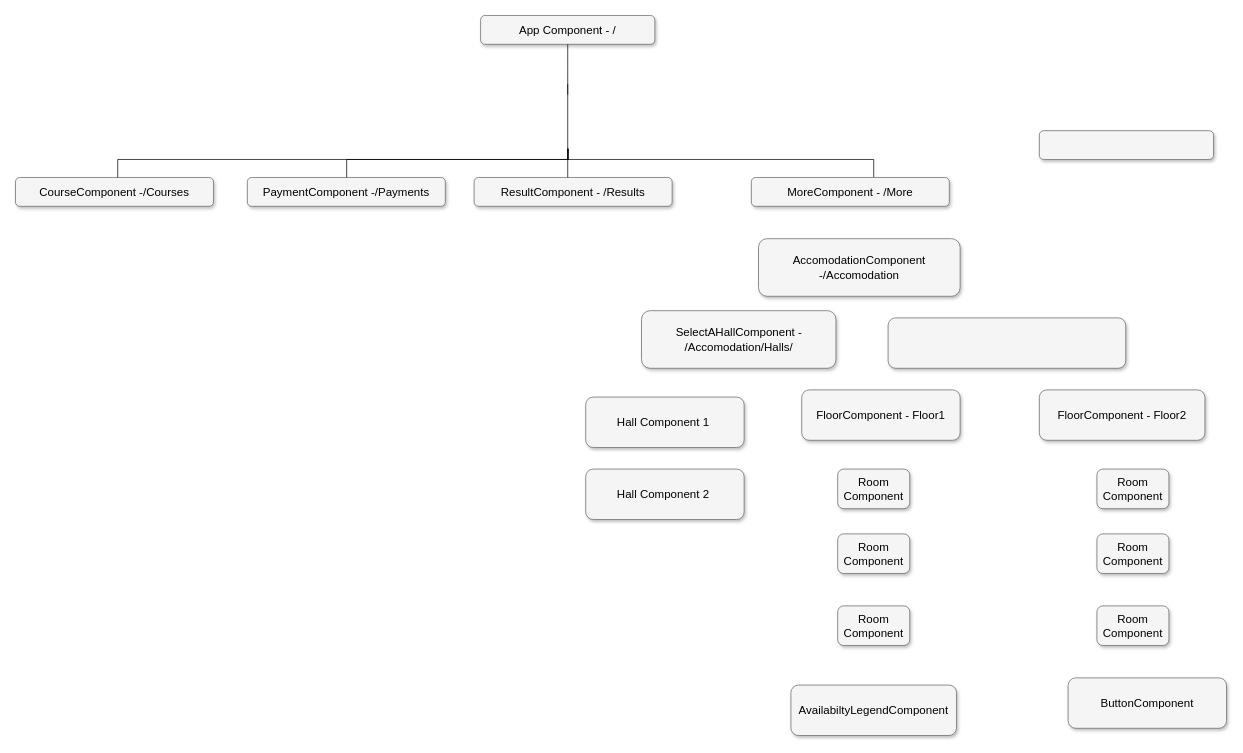
Some shapes in this 1243 by 753 pixel diagram are drawn without their labels. Each missing label, with the centre of its shape:
"FooterComponent" belongs at point 1127,146.
"SelectARoomComponent - /Accomodation/Rooms?hallId=`${hallId}" belongs at point 1007,343.
